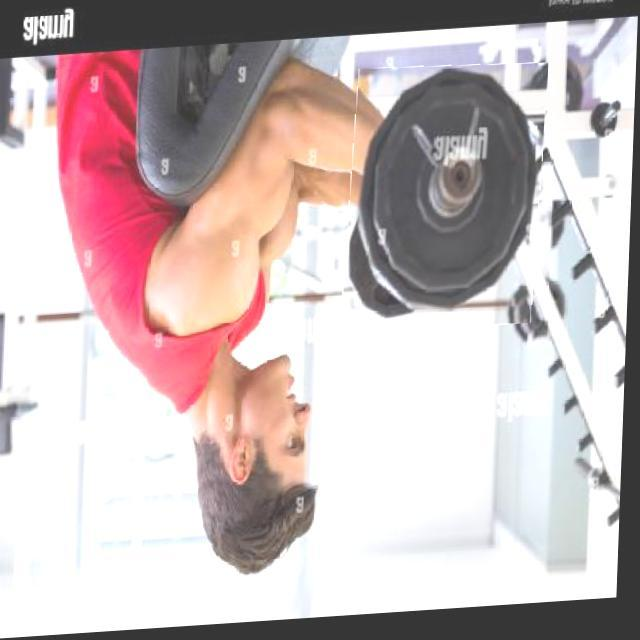barbell: (347, 66, 548, 339)
